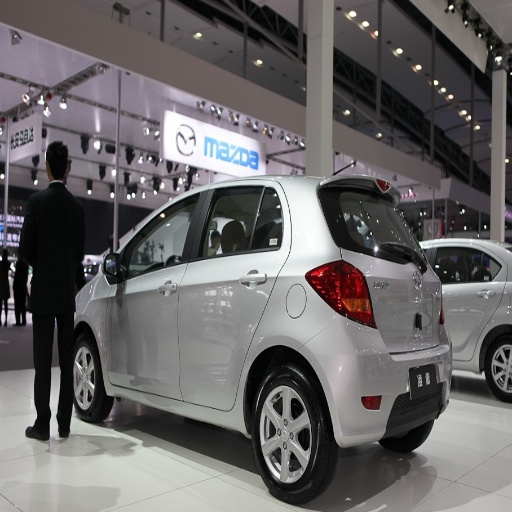back_bumper: (301, 312, 449, 444)
back_glass: (317, 184, 411, 261)
back_left_door: (179, 180, 287, 410)
back_left_light: (307, 262, 376, 325)
tailgate: (360, 267, 435, 348)
trunk: (366, 259, 440, 353)
